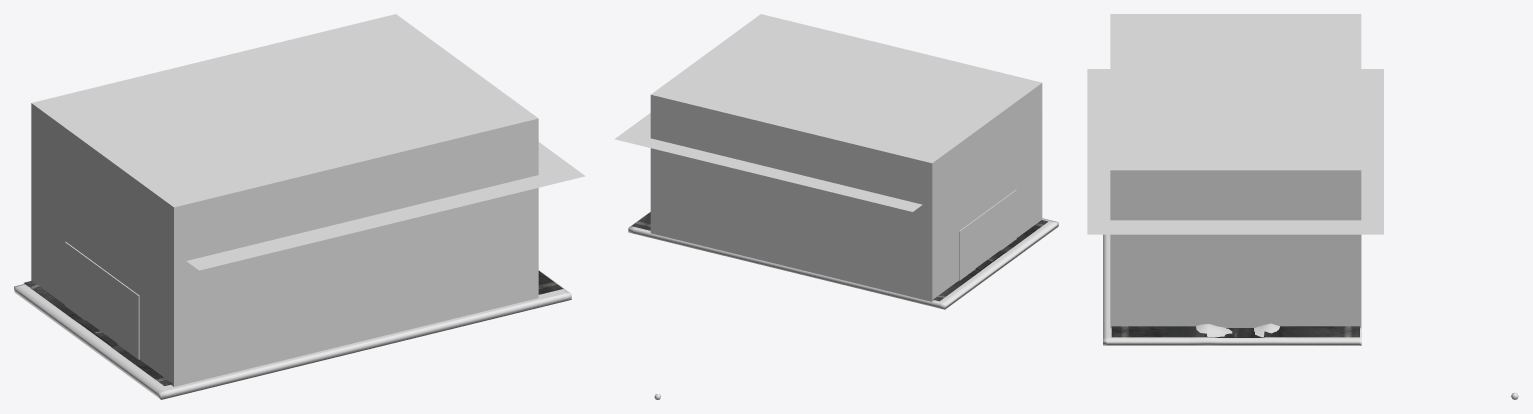
File: snowstreet.fbx
3 views of the same model, side by side, from view 1: azimuth 30°, elevation 25°; view 2: azimuth 150°, elevation 25°; view 3: azimuth 270°, elevation 25° (orthographic). The views are drawn at different scales.
Parts seen in each view (by area): view 1: smoke, Plane.033, Plane.032, Cube.008, Plane; view 2: smoke, Plane.032, Plane.033, Cube.008, Plane; view 3: smoke, Plane.032, Plane.033, Plane.
Boxes of the visible parts, left/top/right/bottom form: smoke: left=31, top=14, right=538, bottom=386; Plane.033: left=14, top=270, right=571, bottom=399; Plane.032: left=31, top=142, right=585, bottom=270; Cube.008: left=64, top=241, right=139, bottom=359; Plane: left=24, top=271, right=563, bottom=385; smoke: left=650, top=14, right=1042, bottom=301; Plane.032: left=614, top=113, right=1042, bottom=211; Plane.033: left=628, top=212, right=1058, bottom=309; Cube.008: left=959, top=189, right=1016, bottom=280; Plane: left=631, top=212, right=1048, bottom=301; smoke: left=1110, top=14, right=1361, bottom=328; Plane.032: left=1087, top=69, right=1383, bottom=234; Plane.033: left=1103, top=234, right=1361, bottom=345; Plane: left=1111, top=326, right=1359, bottom=337.
Size of the model in its own units: 9310 by 6590 by 9515.
